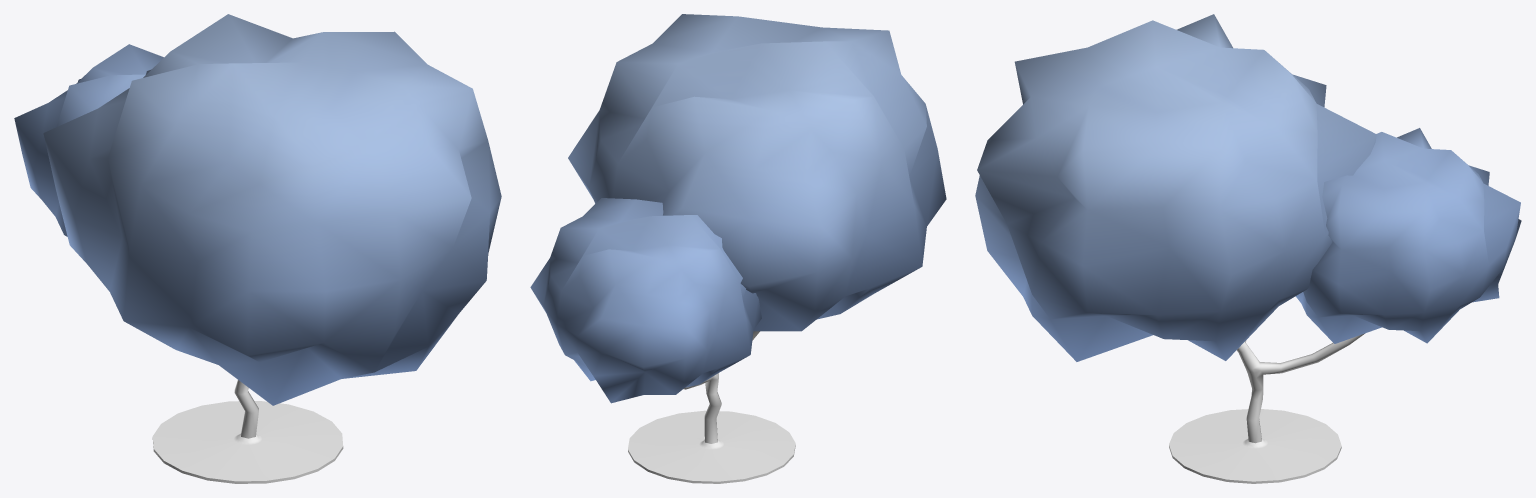
Rendered from puska1.fbx.
3 renders of one model, left to right at view 1: azimuth 30°, elevation 25°; view 2: azimuth 150°, elevation 25°; view 3: azimuth 270°, elevation 25°, orthographic. The views are drawn at different scales.
Parts seen in each view (by area): view 1: polySurface13; view 2: polySurface13; view 3: polySurface13.
Part boxes in pixels (<box>): polySurface13: <box>14,14,501,483</box>; polySurface13: <box>530,14,946,483</box>; polySurface13: <box>975,14,1521,483</box>.
Size of the model in its own units: 20.46 by 23.9 by 29.91.
